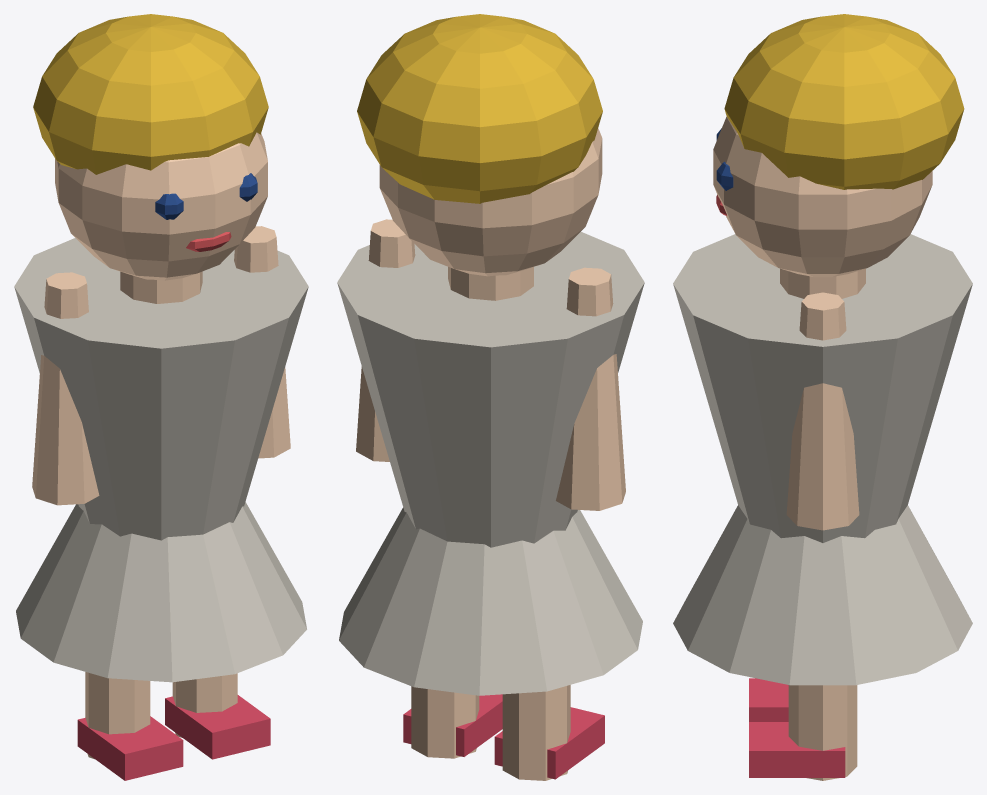
File: doll.glb
3 renders of one model, left to right at view 1: azimuth 30°, elevation 25°; view 2: azimuth 150°, elevation 25°; view 3: azimuth 270°, elevation 25°, orthographic. The views are drawn at different scales.
Parts seen in each view (by area): view 1: doll; view 2: doll; view 3: doll.
Part boxes in pixels (x1=…): doll: x1=14, y1=14, x2=308, y2=780; doll: x1=337, y1=14, x2=644, y2=780; doll: x1=673, y1=14, x2=972, y2=780.
Size of the model in its own units: 0.14 by 0.3695 by 0.14.
